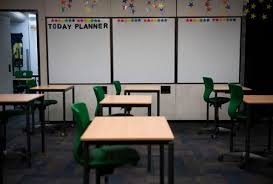desk: (81, 114, 176, 183), (0, 91, 44, 164), (206, 79, 249, 133), (31, 82, 74, 126), (98, 90, 152, 115)
